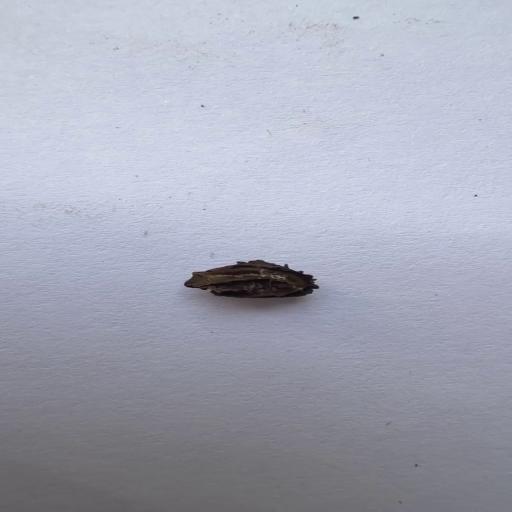papaya_seed: (171, 249, 328, 308)
